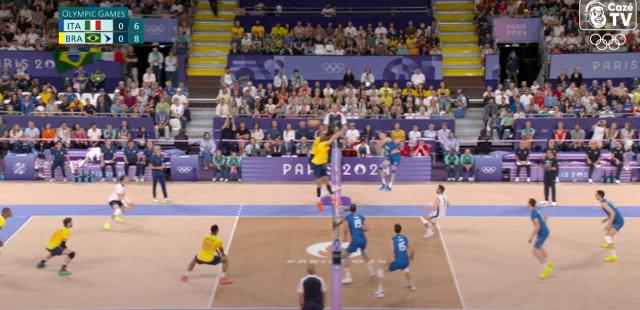Levantador: (40, 216, 76, 276), (526, 199, 552, 273)
Libero: (420, 185, 446, 237), (108, 174, 130, 224)
bola: (331, 132, 345, 142)
